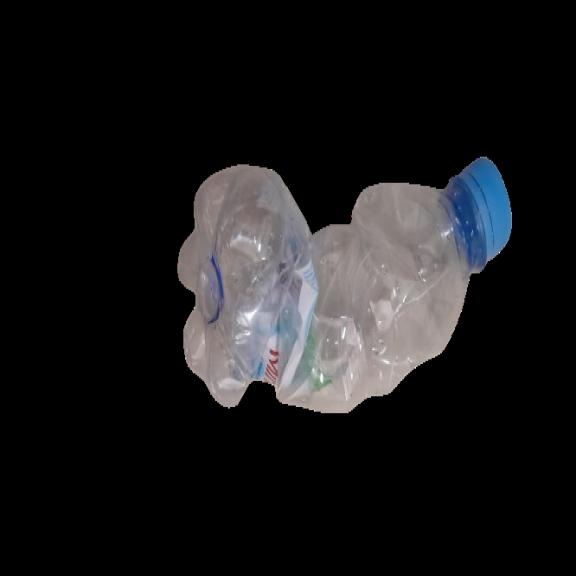Plastik: (176, 145, 514, 424)
